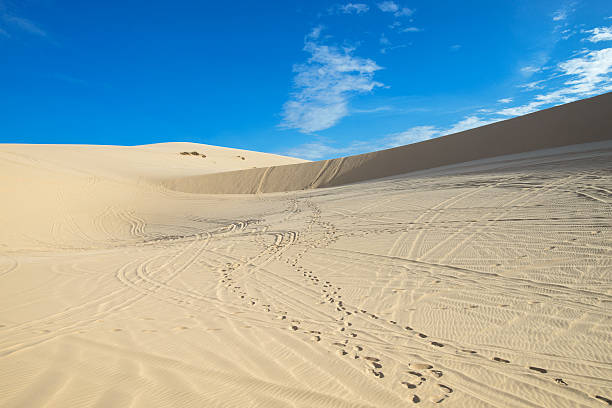human_foot_print: (296, 267, 460, 380), (297, 266, 358, 338), (338, 308, 443, 346), (400, 363, 452, 402), (376, 320, 445, 347), (431, 384, 452, 402), (594, 395, 611, 405), (529, 366, 547, 373), (309, 330, 320, 341), (493, 357, 509, 363), (430, 369, 442, 377), (554, 378, 567, 385), (411, 394, 420, 403), (431, 341, 443, 346), (418, 333, 427, 337)
